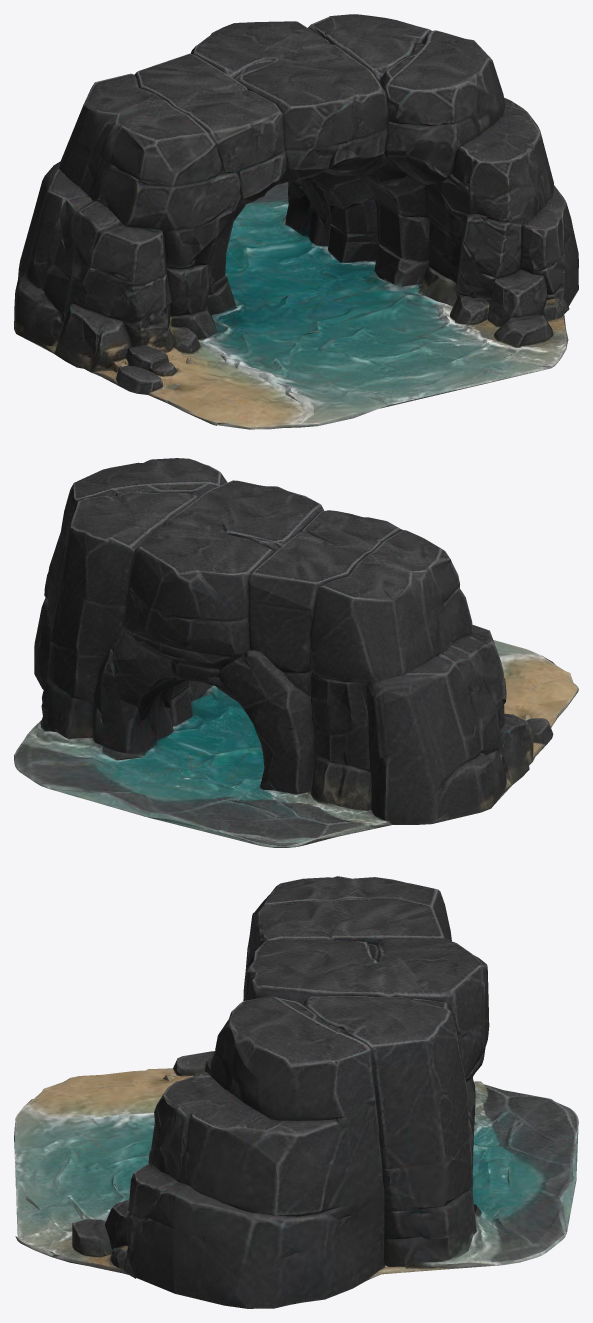
File: basalt-cave.glb
The picture shows the model from 3 angles, top to bottom: view 1: azimuth 30°, elevation 25°; view 2: azimuth 150°, elevation 25°; view 3: azimuth 270°, elevation 25°; orthographic projection. The views are drawn at different scales.
Bounding box in the file's own units: 1.9 × 0.7818 × 1.76.
Materials: 1 (1 with a texture image).
